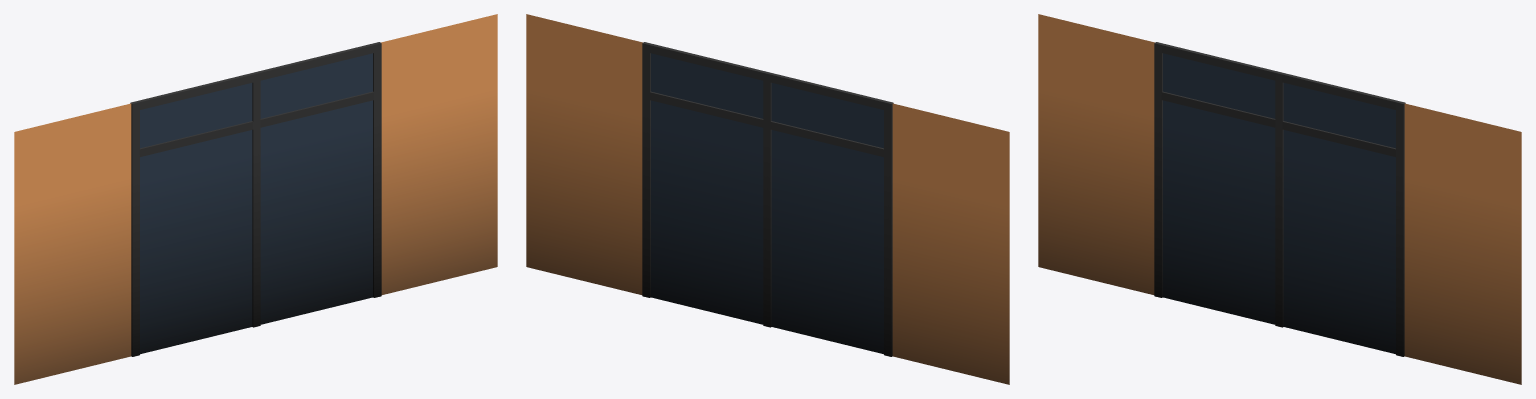
The model's file is blockedDoor.fbx.
3 renders of one model, left to right at view 1: azimuth 30°, elevation 25°; view 2: azimuth 150°, elevation 25°; view 3: azimuth 330°, elevation 25°, orthographic.
Parts seen in each view (by area): view 1: planeTemplate1, pCube8, pCube9, pCube10, pCube18, pCube12, pCube19, pCube11; view 2: planeTemplate1, pCube8, pCube9, pCube10, pCube18, pCube12, pCube19, pCube11; view 3: planeTemplate1, pCube9, pCube10, pCube8, pCube12, pCube18, pCube19, pCube11.
Part boxes in pixels (<box>): planeTemplate1: <box>14,14,497,384</box>; pCube8: <box>130,101,139,356</box>; pCube9: <box>372,42,381,297</box>; pCube10: <box>251,71,260,327</box>; pCube18: <box>138,73,253,109</box>; pCube12: <box>258,44,373,80</box>; pCube19: <box>139,121,253,157</box>; pCube11: <box>260,91,373,127</box>; planeTemplate1: <box>526,14,1009,384</box>; pCube8: <box>884,101,893,356</box>; pCube9: <box>642,42,651,297</box>; pCube10: <box>763,71,772,327</box>; pCube18: <box>770,73,885,110</box>; pCube12: <box>650,44,765,80</box>; pCube19: <box>770,121,884,156</box>; pCube11: <box>650,91,763,127</box>; planeTemplate1: <box>1038,14,1521,384</box>; pCube9: <box>1396,101,1405,356</box>; pCube10: <box>1275,71,1284,327</box>; pCube8: <box>1154,42,1163,297</box>; pCube12: <box>1282,73,1397,109</box>; pCube18: <box>1162,44,1276,80</box>; pCube19: <box>1161,91,1275,127</box>; pCube11: <box>1282,121,1395,156</box>.
Bounding box in the file's own units: 6 × 3 × 0.0428.
